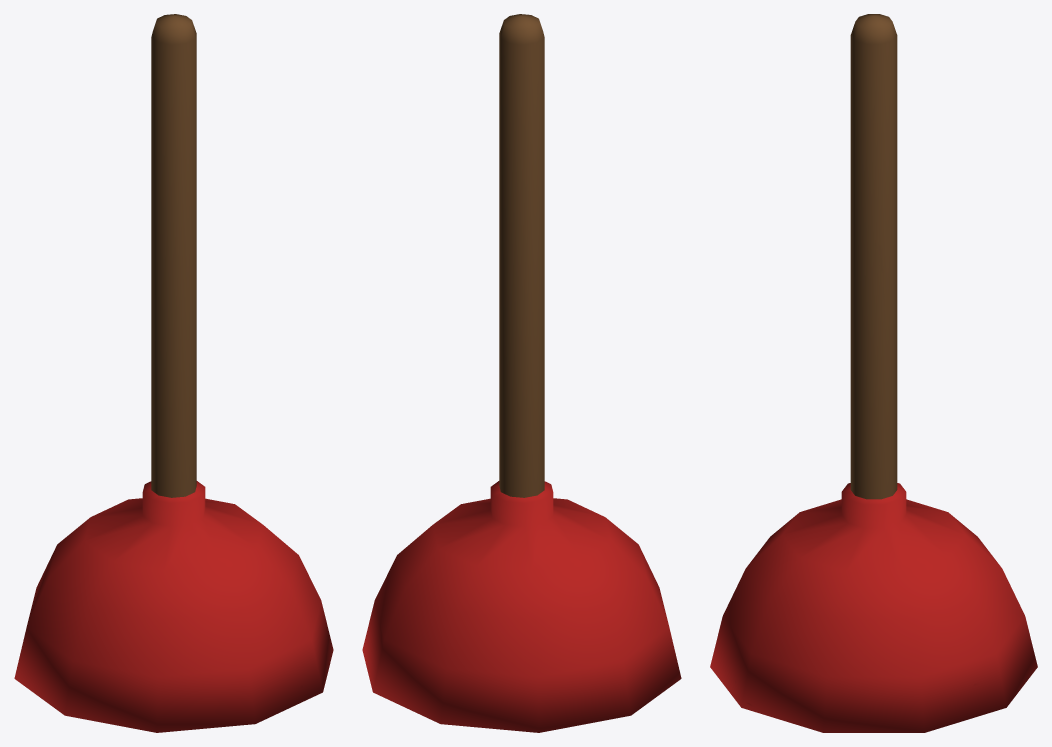
The model's file is Plunger.fbx.
3 views of the same model, side by side, from view 1: azimuth 30°, elevation 25°; view 2: azimuth 150°, elevation 25°; view 3: azimuth 270°, elevation 25° (orthographic).
Parts seen in each view (by area): view 1: Plunger; view 2: Plunger; view 3: Plunger.
Boxes of the visible parts, x1,y1,x2,y2 form: Plunger: [14, 14, 333, 732]; Plunger: [362, 14, 681, 732]; Plunger: [710, 14, 1037, 732].
Size of the model in its own units: 21.49 by 49.5 by 22.6.
